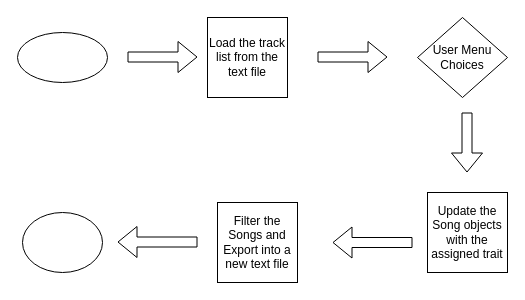
The diagram is 525 pixels wide and 300 high, and some of its shapes have lost their labels. The centre of each missing label's shape, as x and y in pixels:
"Program Exit" goes at point 62,242.
"Program Start" goes at point 62,57.
